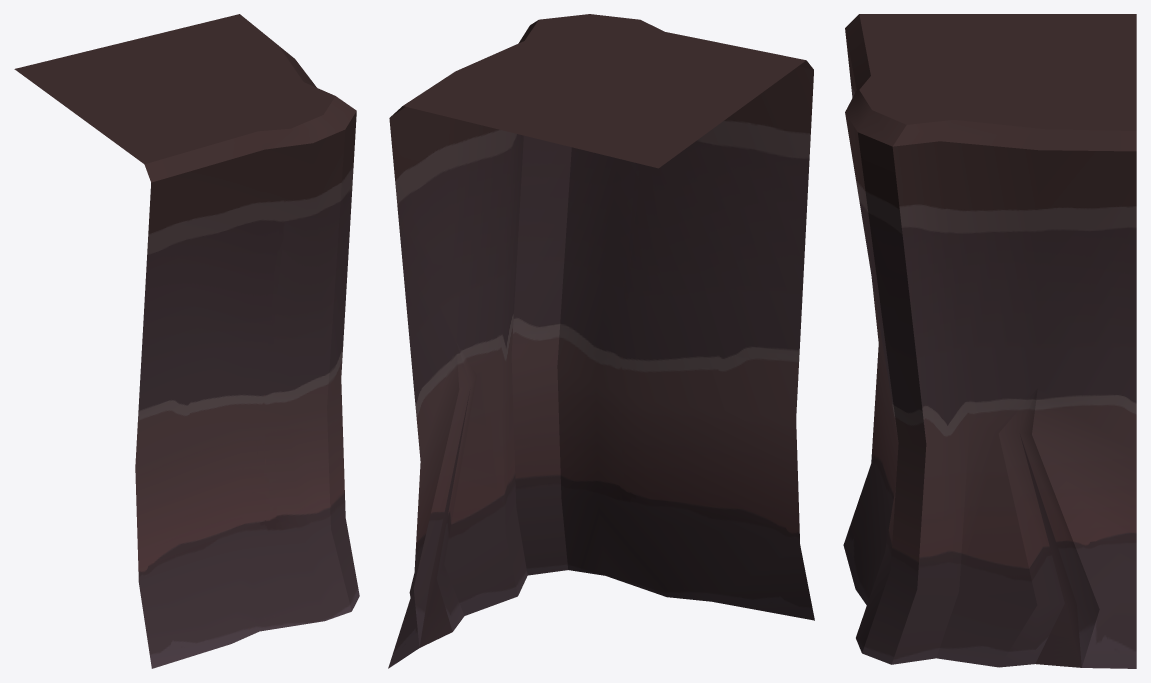
The model's file is M_Wall_Corner_02.fbx.
The picture shows the model from 3 angles, left to right: view 1: azimuth 30°, elevation 25°; view 2: azimuth 150°, elevation 25°; view 3: azimuth 270°, elevation 25°; orthographic projection. The views are drawn at different scales.
Visible parts, largest first — view 1: M_Wall_Corner_02; view 2: M_Wall_Corner_02; view 3: M_Wall_Corner_02.
Part boxes in pixels (box(x1,y1,x2,y2)): M_Wall_Corner_02: box(14, 14, 359, 668); M_Wall_Corner_02: box(388, 14, 814, 668); M_Wall_Corner_02: box(843, 14, 1136, 668).
Size of the model in its own units: 200 by 400 by 200.
